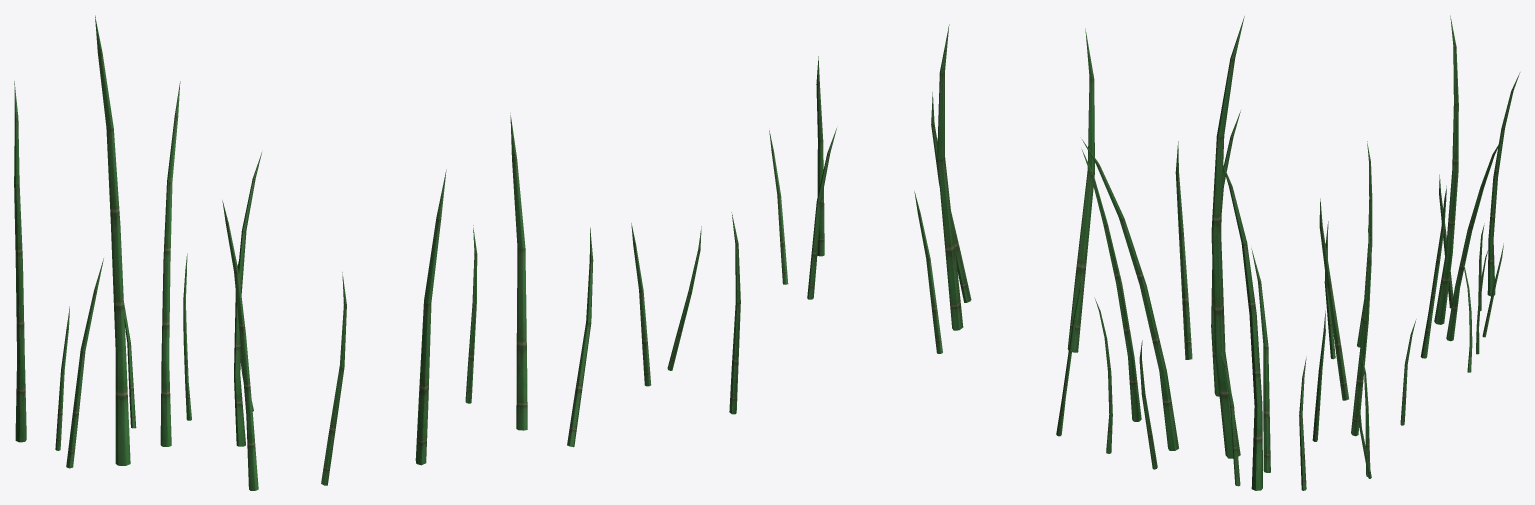
Rendered from Area_13_42.fbx.
The picture shows the model from 3 angles, left to right: view 1: azimuth 30°, elevation 25°; view 2: azimuth 150°, elevation 25°; view 3: azimuth 270°, elevation 25°; orthographic projection. The views are drawn at different scales.
Visible parts, largest first — view 1: Area_13_42; view 2: Area_13_42; view 3: Area_13_42.
Boxes of the visible parts, x1=… form: Area_13_42: x1=14, y1=15, x2=740, y2=490; Area_13_42: x1=769, y1=16, x2=1270, y2=490; Area_13_42: x1=1299, y1=15, x2=1520, y2=490.
Size of the model in its own units: 3209 by 2364 by 1559.
